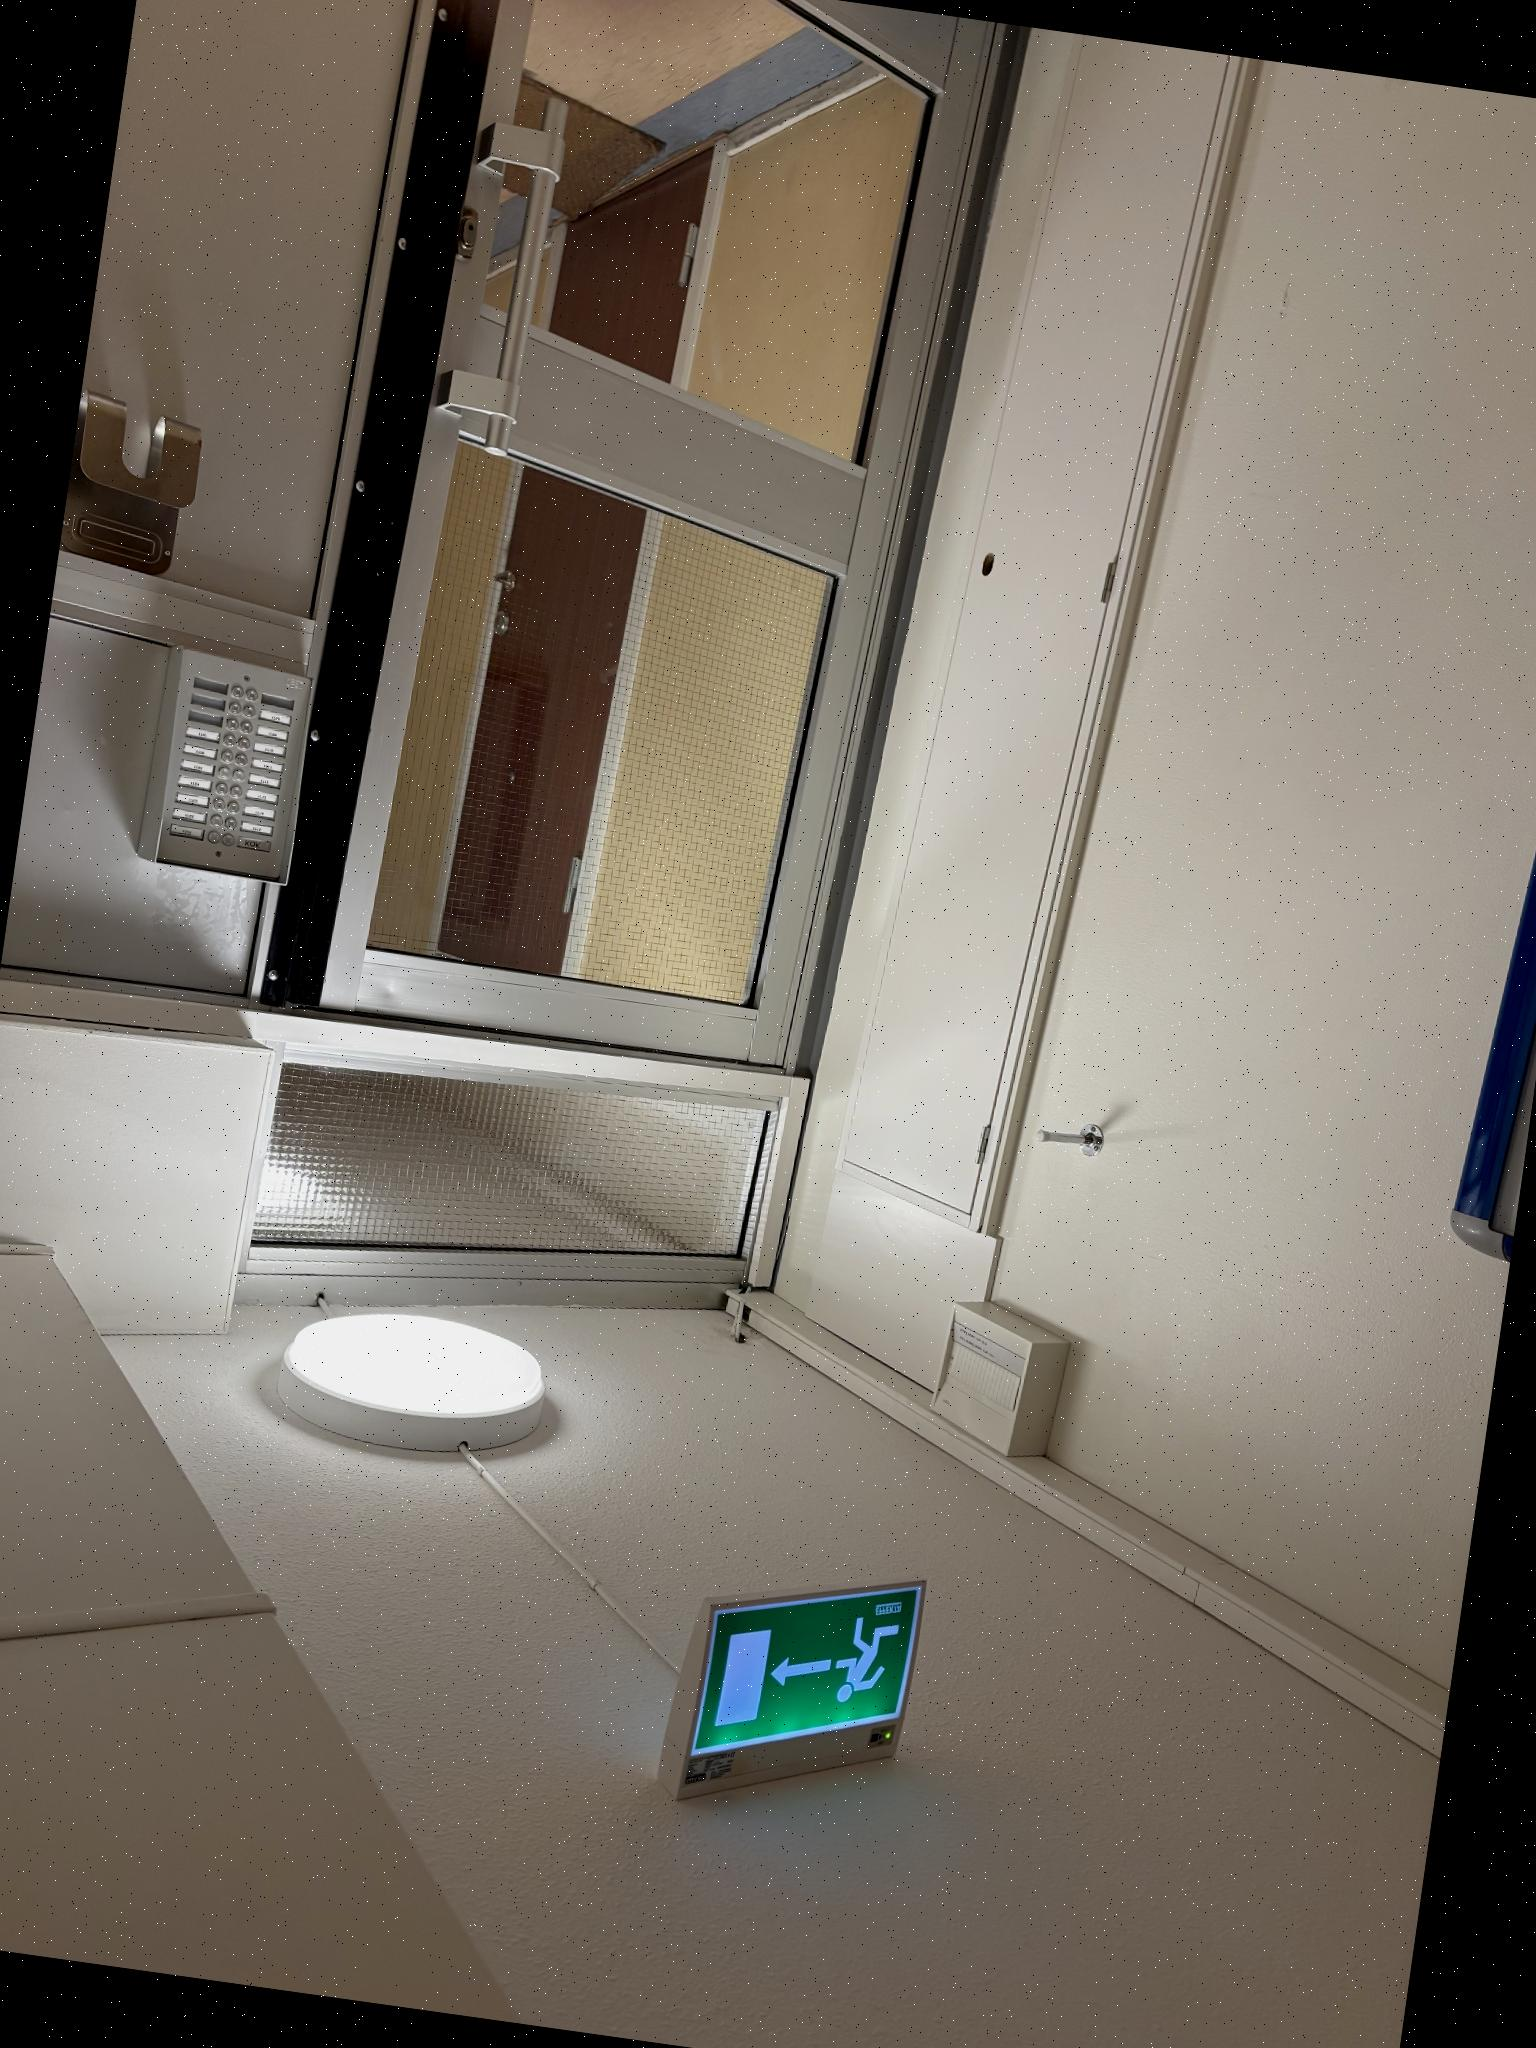exit_sign: (660, 1553, 934, 1822)
